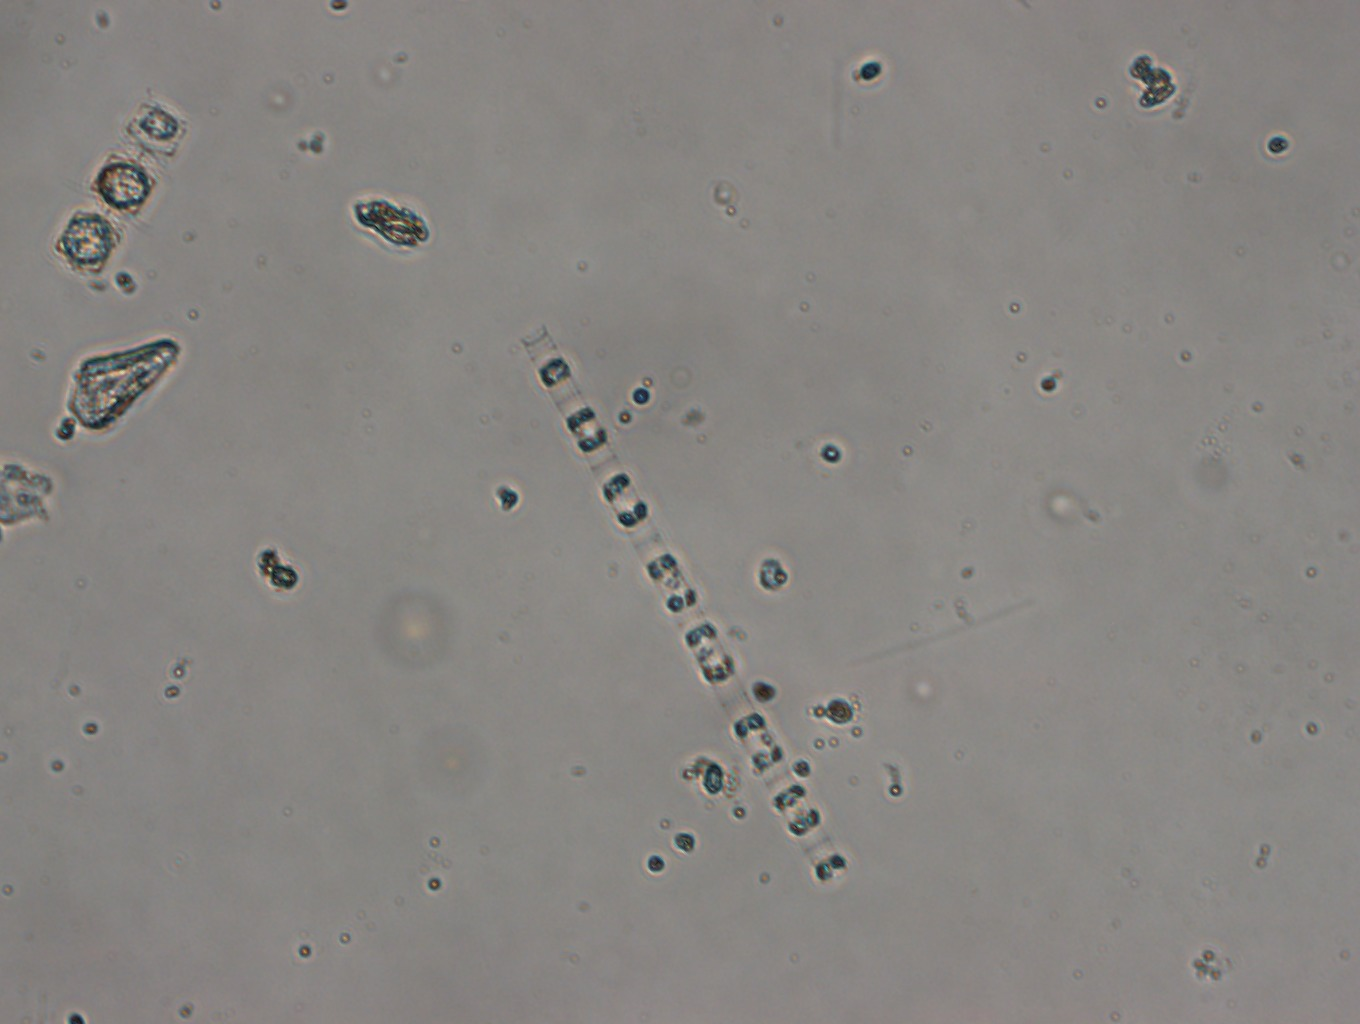skeletonema: (531, 323, 857, 897)
